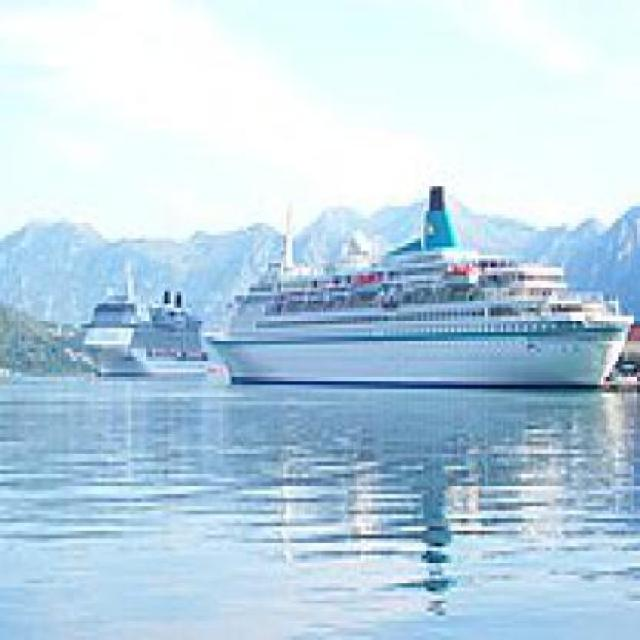cruise: (193, 179, 638, 398), (77, 252, 214, 383)
